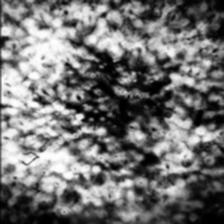Potentially Malignant Skin Tumors: (35, 40, 173, 170)
